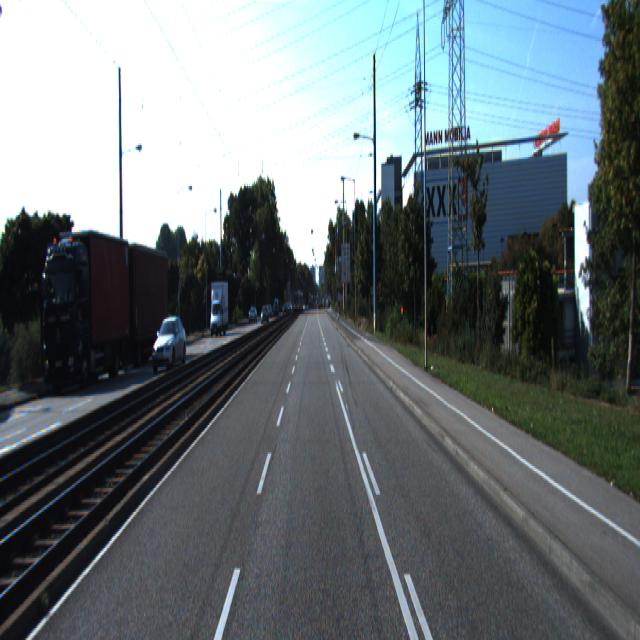Car: (40, 222, 132, 398), (110, 240, 170, 371), (151, 315, 189, 374), (208, 281, 229, 339)
